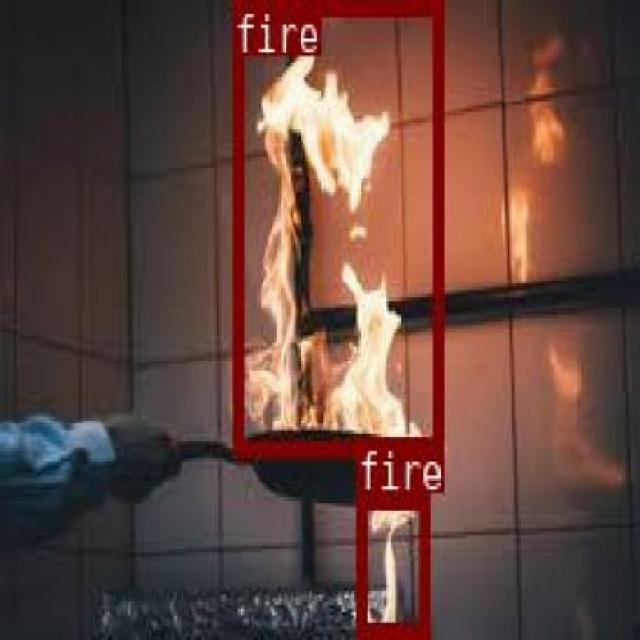Fire: (231, 0, 440, 455), (356, 493, 426, 633)
